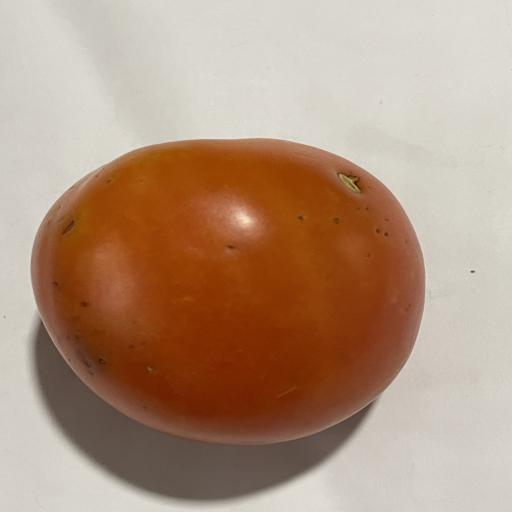ripe: (31, 139, 424, 444)
